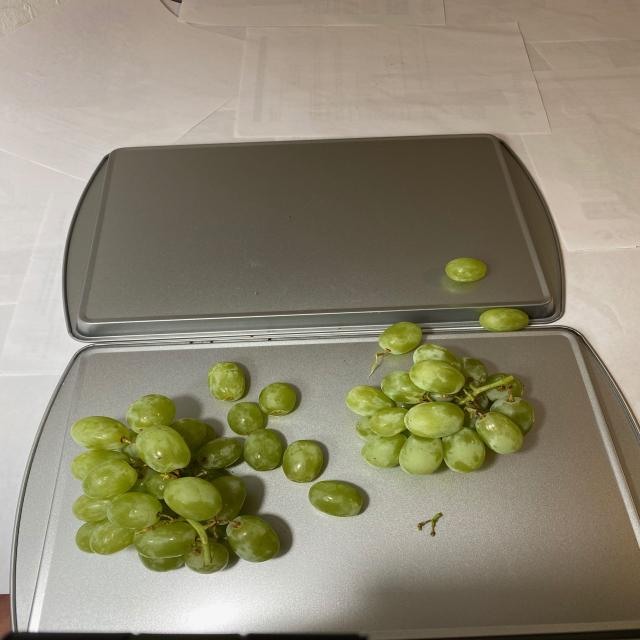grapes: (66, 258, 532, 578)
